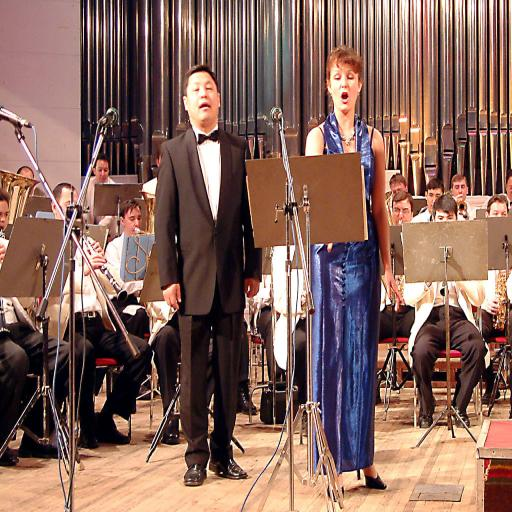Person: (142, 97, 278, 437), (286, 95, 394, 441), (36, 203, 134, 406), (416, 194, 482, 399)
boots: (210, 371, 253, 427), (182, 380, 208, 435)
no_boots: (348, 385, 394, 437), (318, 403, 344, 449)
no_gloves: (377, 259, 413, 299), (161, 261, 185, 302)
no_goggle: (187, 123, 225, 136), (331, 114, 357, 131)
no_helmet: (324, 89, 369, 142), (177, 104, 225, 150)
none: (292, 146, 392, 396), (154, 152, 276, 324), (97, 224, 175, 361), (395, 222, 487, 337), (32, 228, 116, 334), (464, 202, 512, 350)
